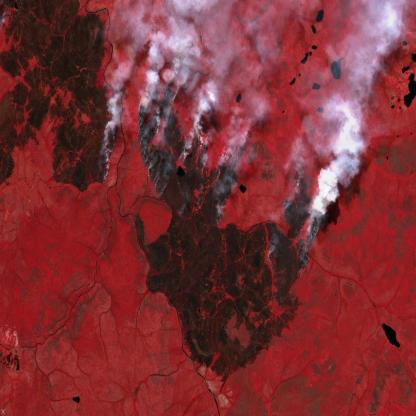fire: (135, 63, 325, 300), (92, 100, 124, 191)
